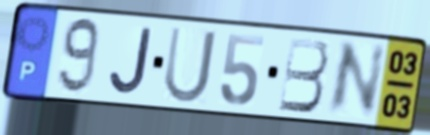5: (218, 30, 267, 108)
9: (53, 16, 101, 98)
B: (276, 35, 331, 115)
J: (106, 25, 156, 97)
N: (323, 40, 390, 118)
U: (161, 24, 220, 106)
